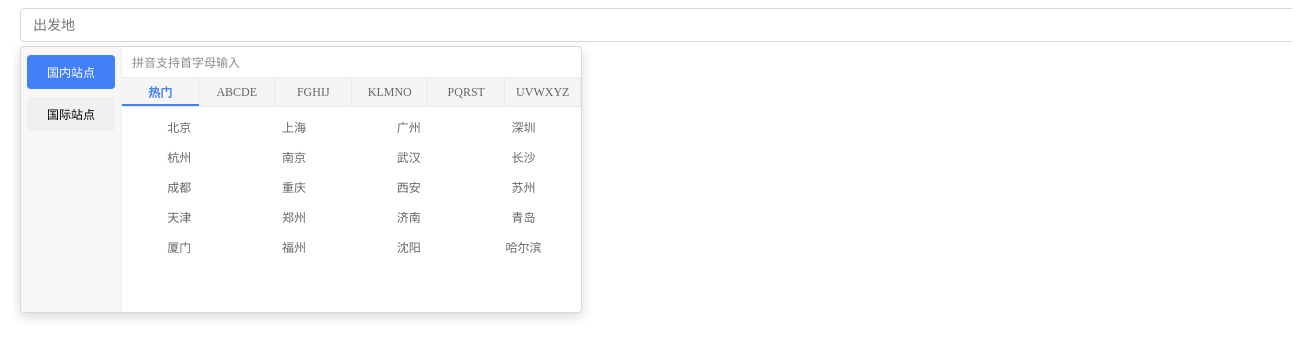
Test: Given user types a non-existent station, then it should show "无法匹配任何站点" in dropdown
Type "nonexistent-station" into the field with placeholder "出发地" at (656, 25), box x1=20 y1=8 x2=1292 y2=42
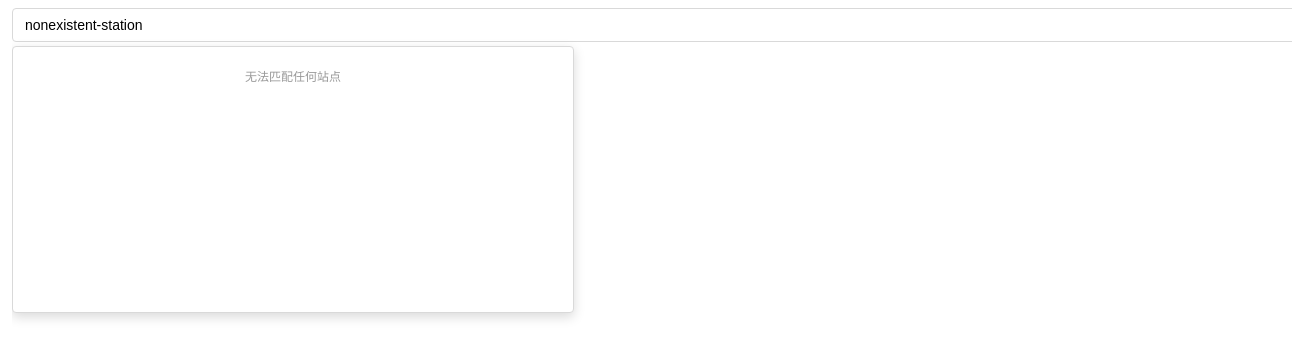
Result: the text "无法匹配任何站点" is shown at x1=245 y1=70 x2=341 y2=84
